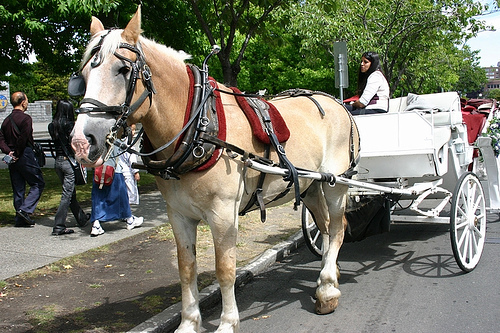horse: (70, 9, 361, 333)
